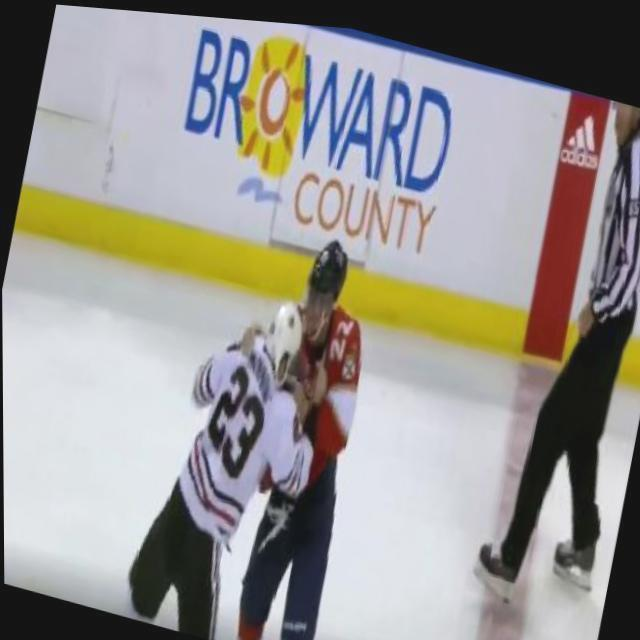fight: (144, 194, 395, 640)
